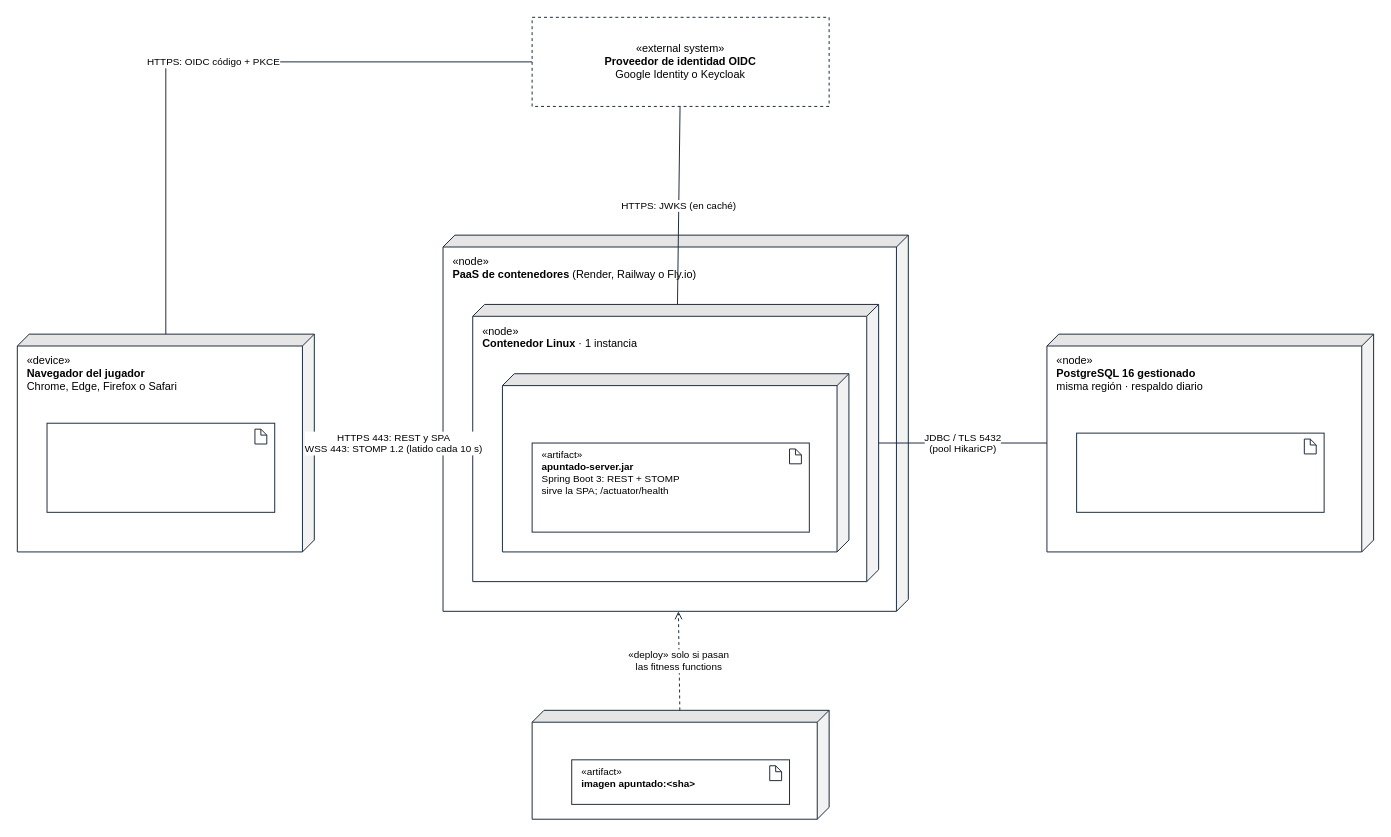
The diagram is 1391 pixels wide and 837 high, and some of its shapes have lost their labels. Here are the shapes that lost their labels. From the top down, the box of each, then its label:
(46, 422, 275, 512): «artifact» spa-apuntado React + TypeScript WebCrypto: recalcula SHA-256
(501, 373, 849, 552): «executionEnvironment» JRE 21 (Temurin)
(1076, 432, 1324, 512): «artifact» esquema apuntado 13 tablas en 3FN migraciones Flyway
(531, 709, 829, 819): «node» GitHub Actions + ghcr.io
